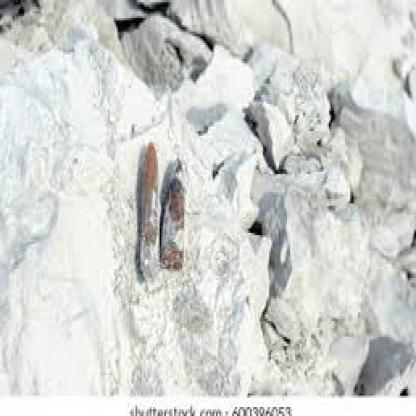Sedimentary_Chalk: (0, 32, 116, 389), (322, 52, 414, 269), (198, 208, 270, 384)
